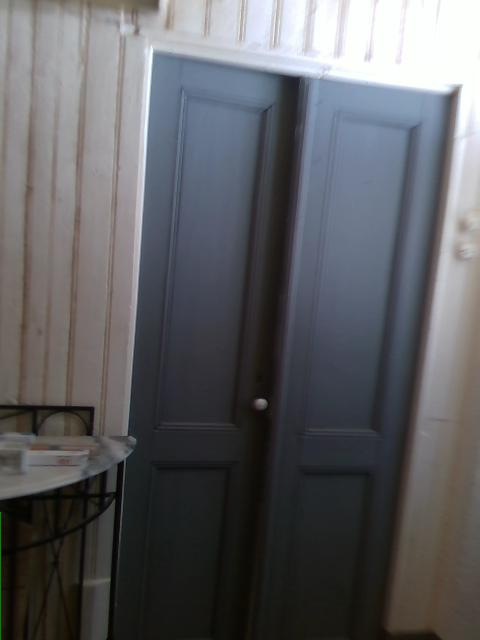door: (104, 32, 471, 636)
